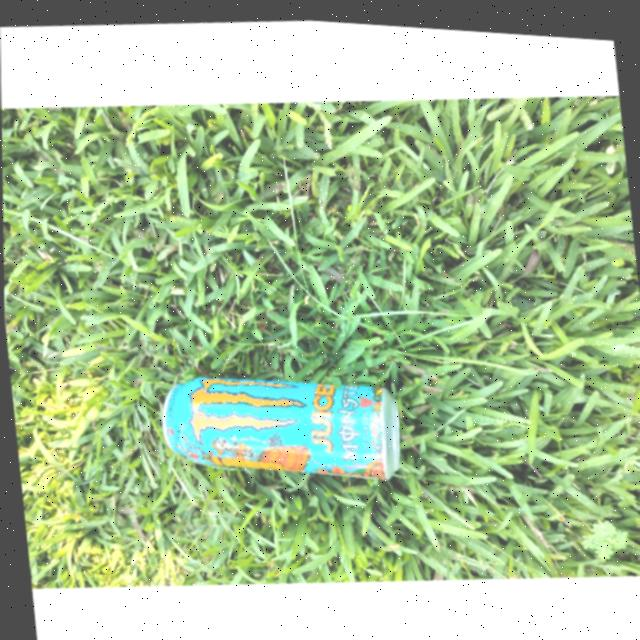Monster Mango Loco: (157, 352, 396, 497)
